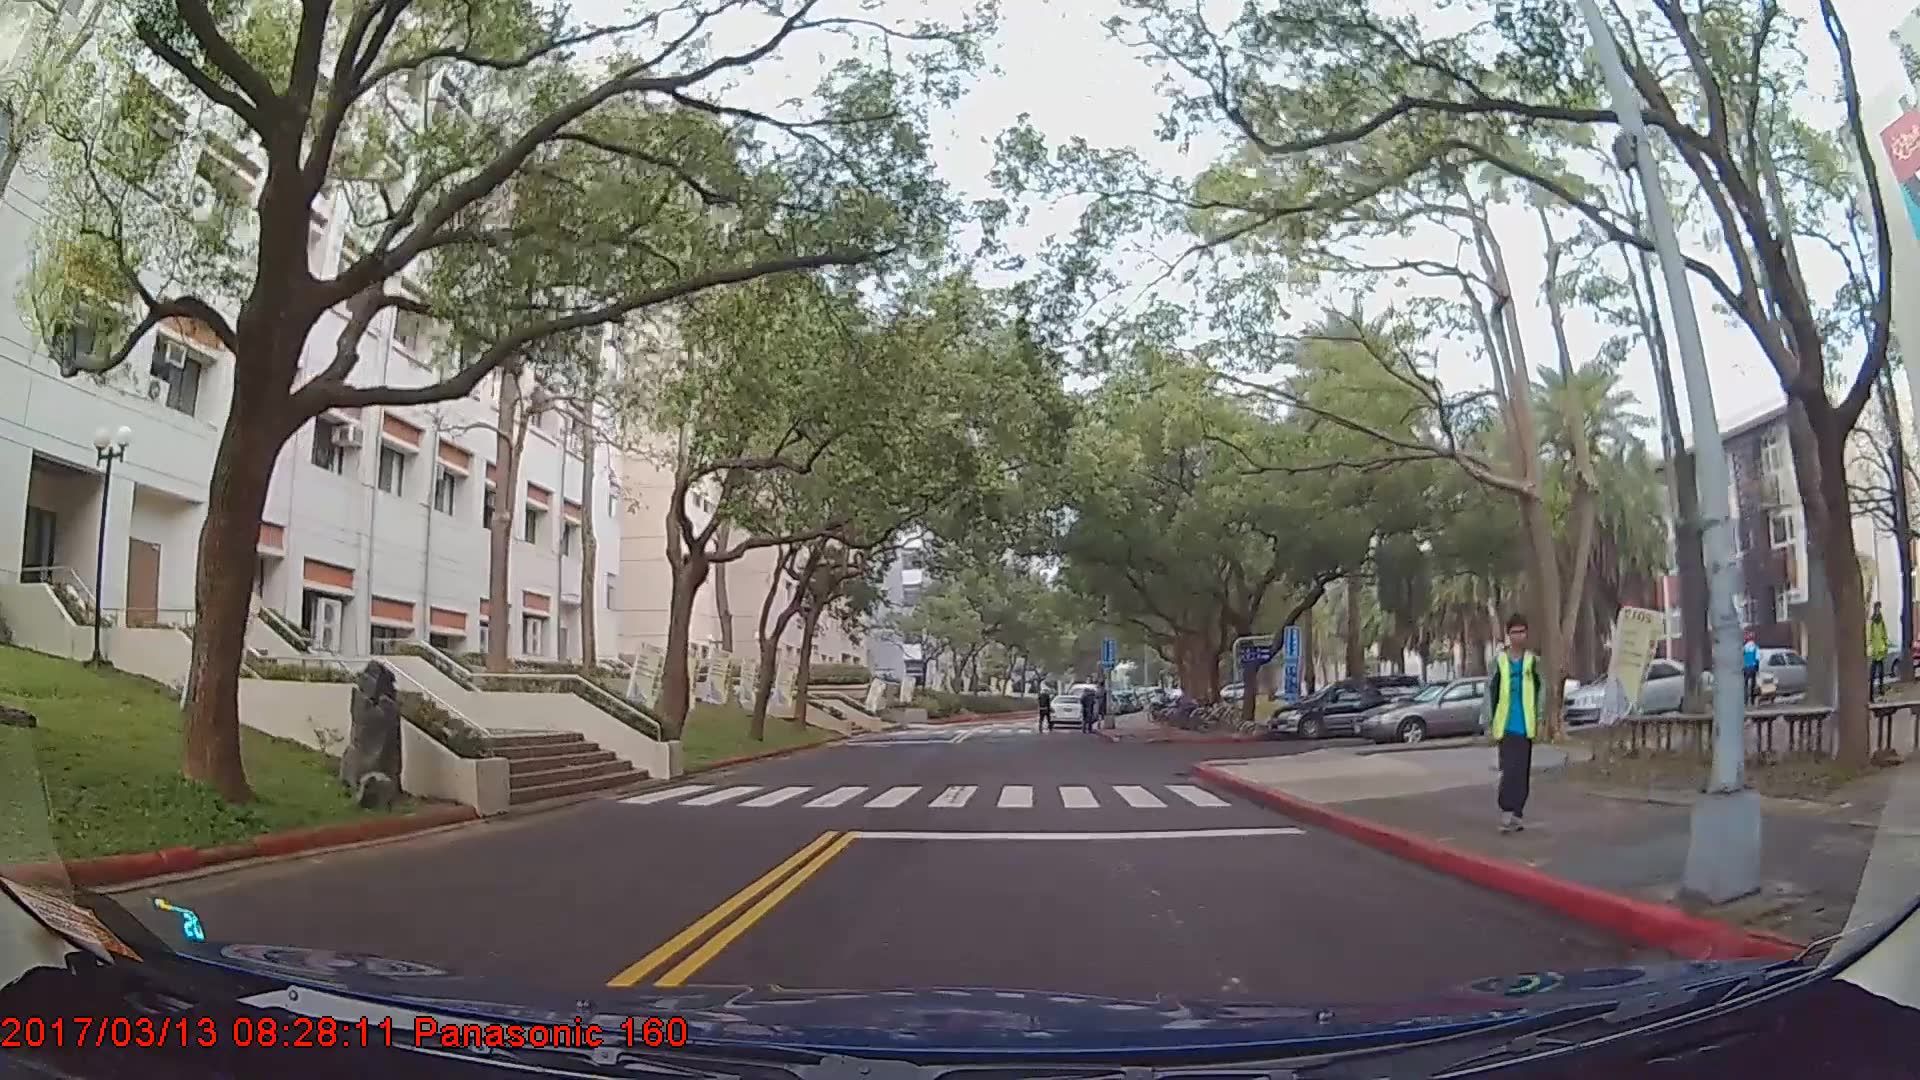pedestrian: (1477, 612, 1548, 832), (1737, 622, 1767, 714), (1867, 601, 1891, 702), (1037, 686, 1057, 735), (1079, 689, 1099, 735)
vehicle: (1355, 677, 1547, 746), (1563, 659, 1714, 728), (1269, 676, 1427, 738), (1716, 645, 1817, 704), (1045, 694, 1088, 731)
